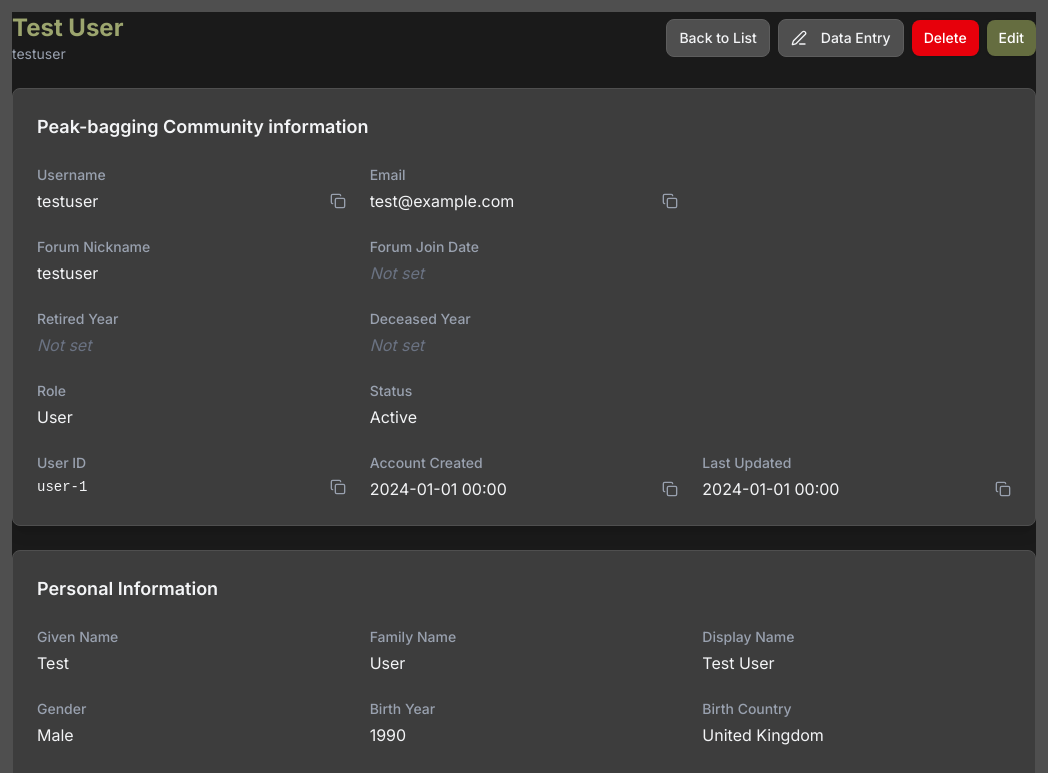
Test case: UserProfile › cancels edit mode when cancel button clicked
Click the button "Edit". click: (1011, 38)
box: [987,20,1036,56]
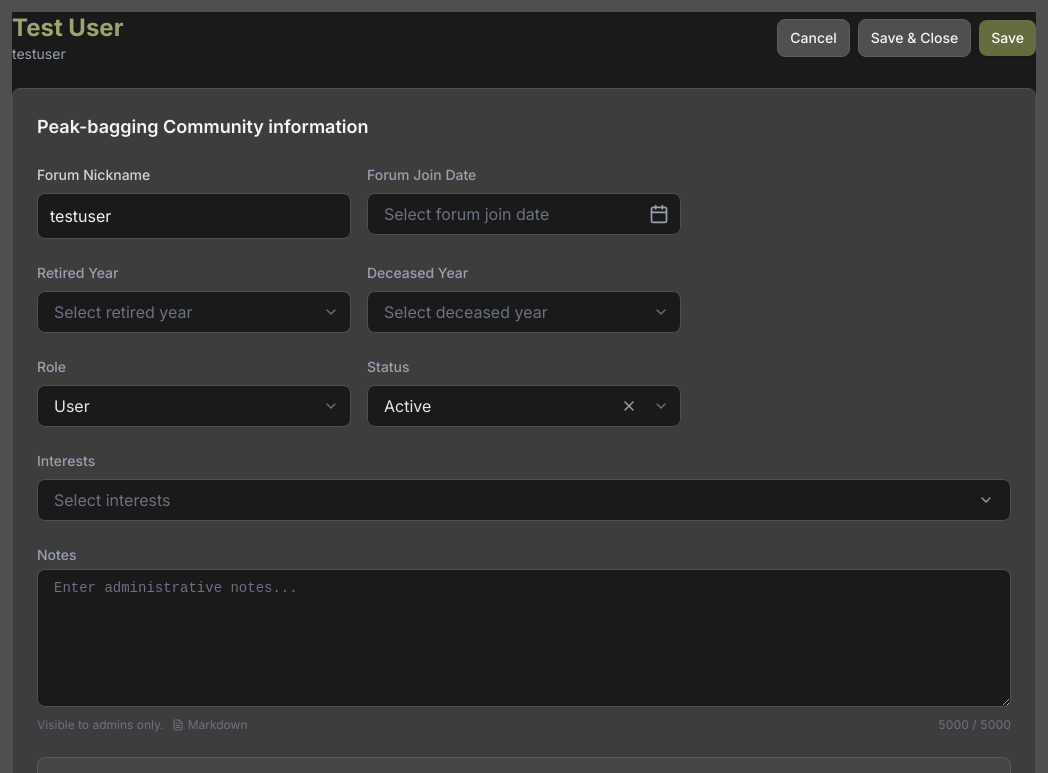
Expected: the button "Cancel" is shown
Click the button "Cancel". click: (814, 38)
box: [777,19,850,57]
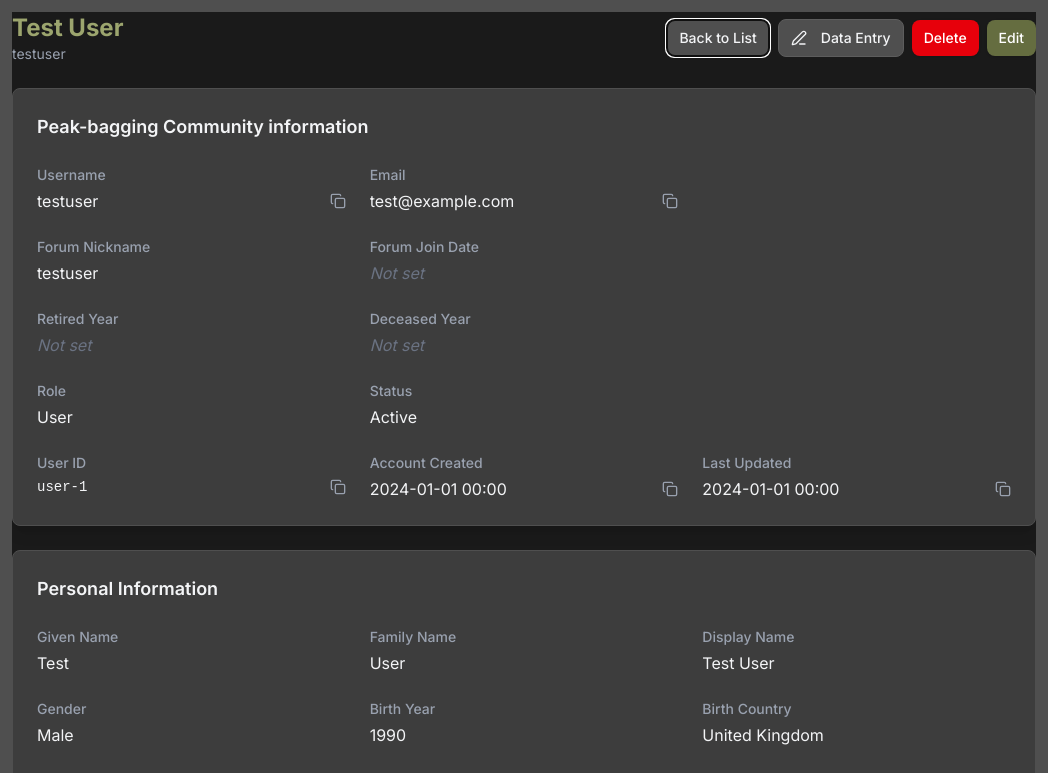
Expected: the button "Edit" is shown, [987,20,1036,56]
